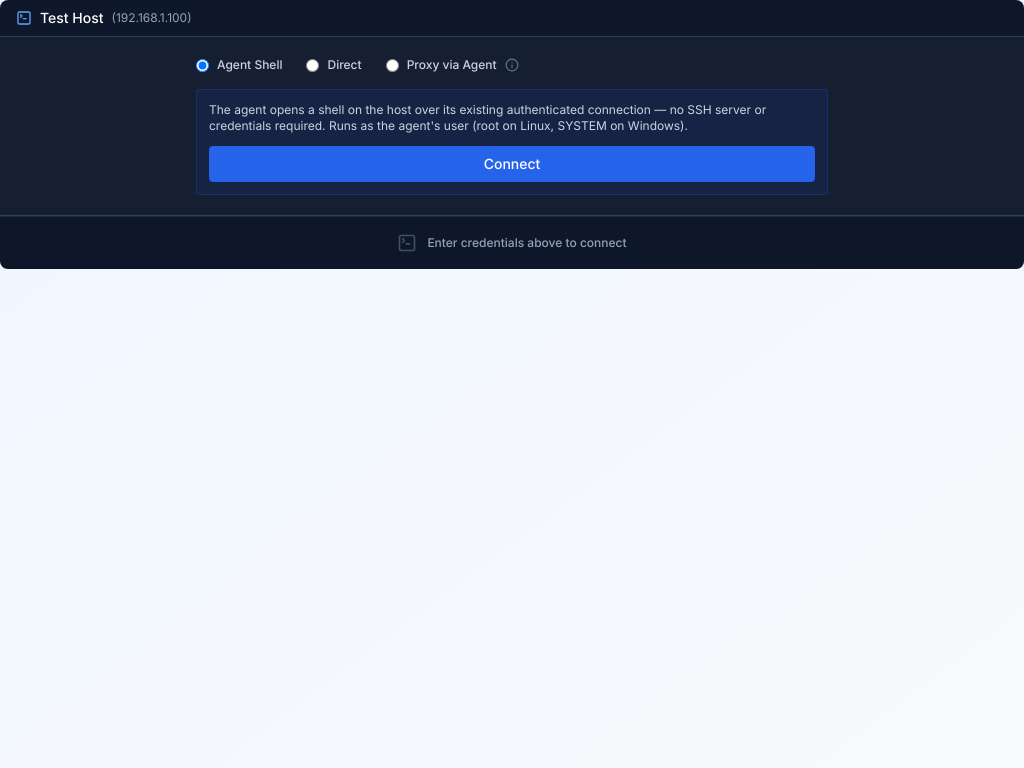
Test: SshTerminal Component › Form Validation › should enable connect button when all required fields are filled
Click the radio button labelled "Direct" at (313, 65), box top-left (306, 58), bottom-right (320, 72)
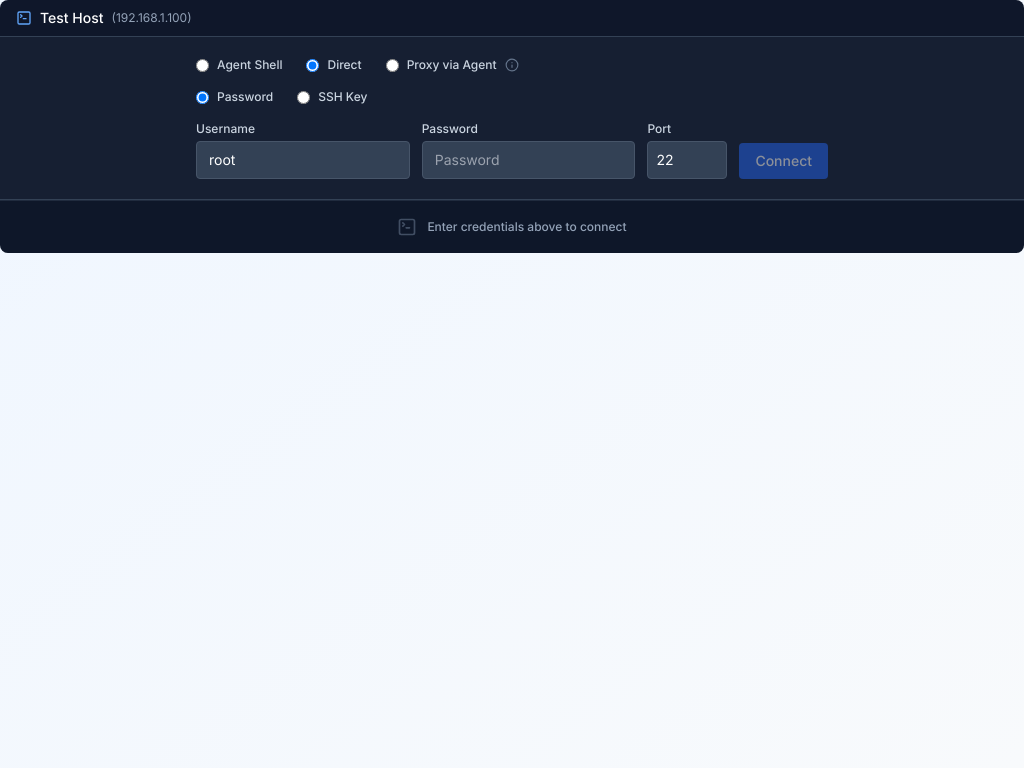
Type "testuser" into the field with placeholder "root" at (303, 160), box top-left (196, 141), bottom-right (410, 179)
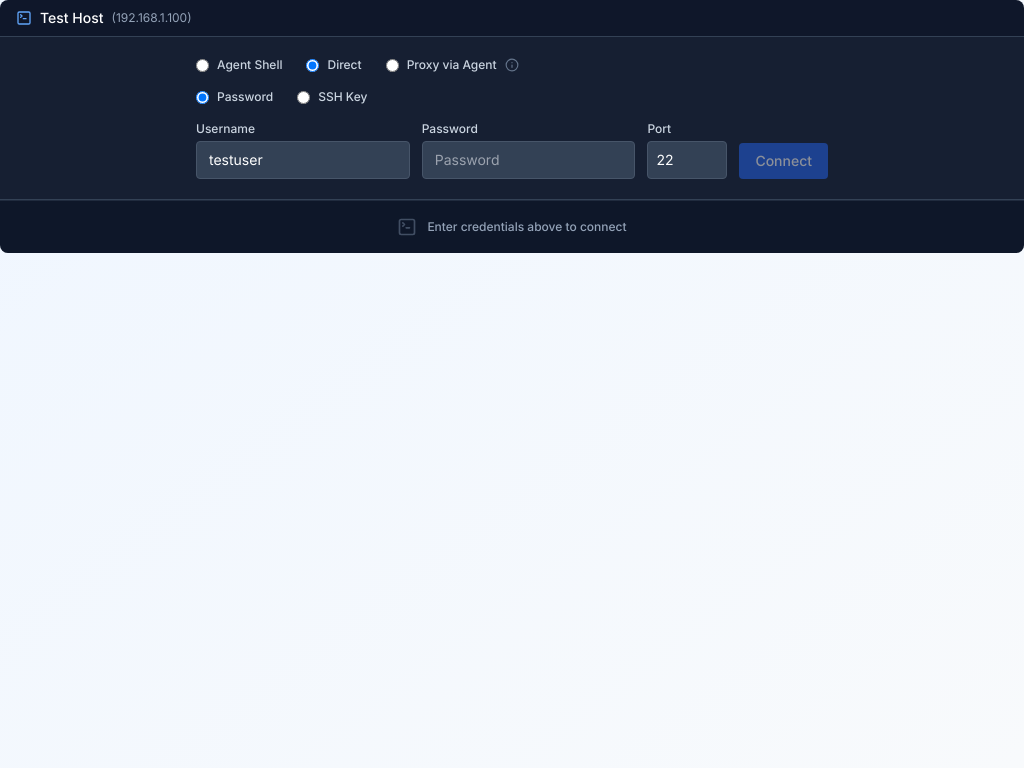
Type "testpass" into the password field with placeholder "Password" at (529, 160), box top-left (422, 141), bottom-right (635, 179)
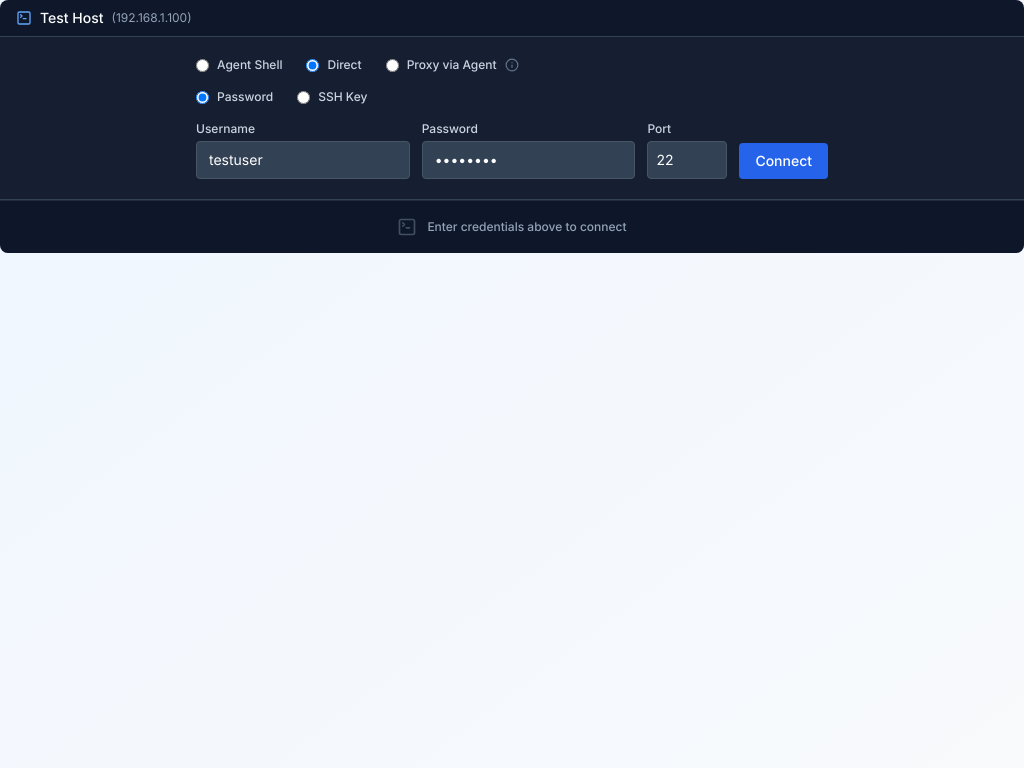
Expected: the button "Connect" is enabled, top-left (739, 143), bottom-right (828, 179)
